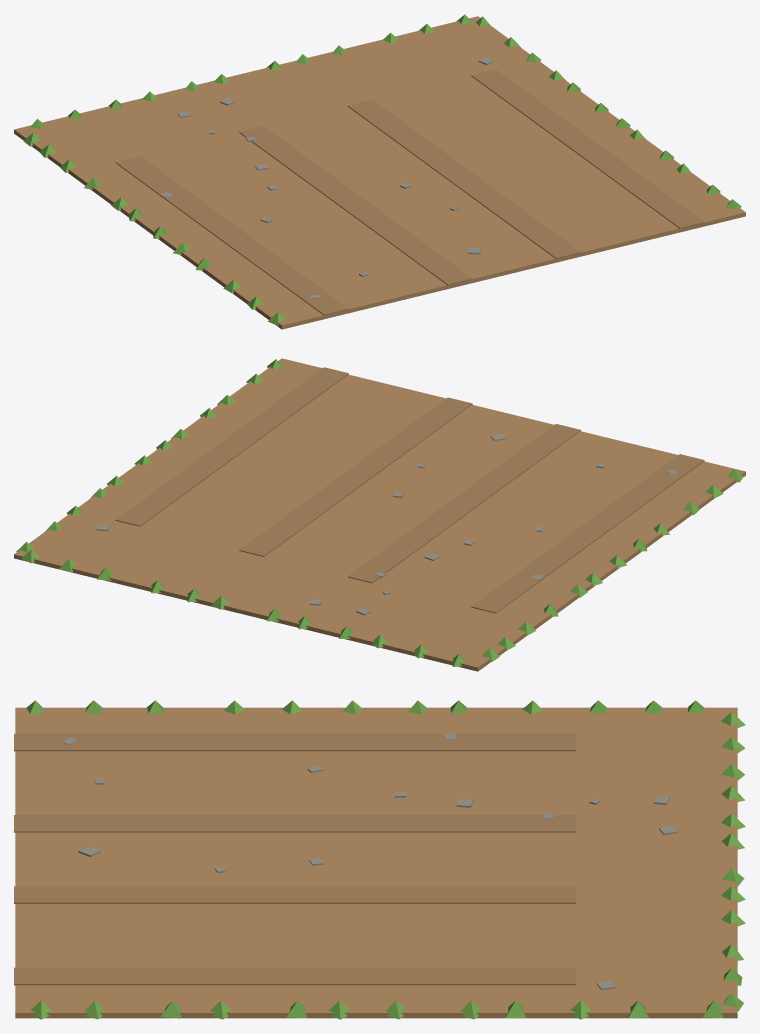
The model's file is road_dirt_twoway_end.glb.
3 renders of one model, top to bottom at view 1: azimuth 30°, elevation 25°; view 2: azimuth 150°, elevation 25°; view 3: azimuth 270°, elevation 25°, orthographic. The views are drawn at different scales.
Parts seen in each view (by area): view 1: road_dirt_twoway_end.001; view 2: road_dirt_twoway_end.001; view 3: road_dirt_twoway_end.001.
Boxes of the visible parts, bbox=[...] form: road_dirt_twoway_end.001: bbox=[14, 14, 745, 329]; road_dirt_twoway_end.001: bbox=[14, 358, 745, 671]; road_dirt_twoway_end.001: bbox=[14, 700, 745, 1019].
Size of the model in its own units: 6.14 by 0.14 by 6.08.
Materials: 1 (1 with a texture image).
